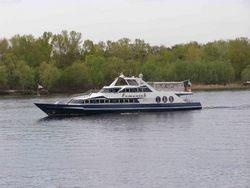yacht: (30, 70, 204, 119)
